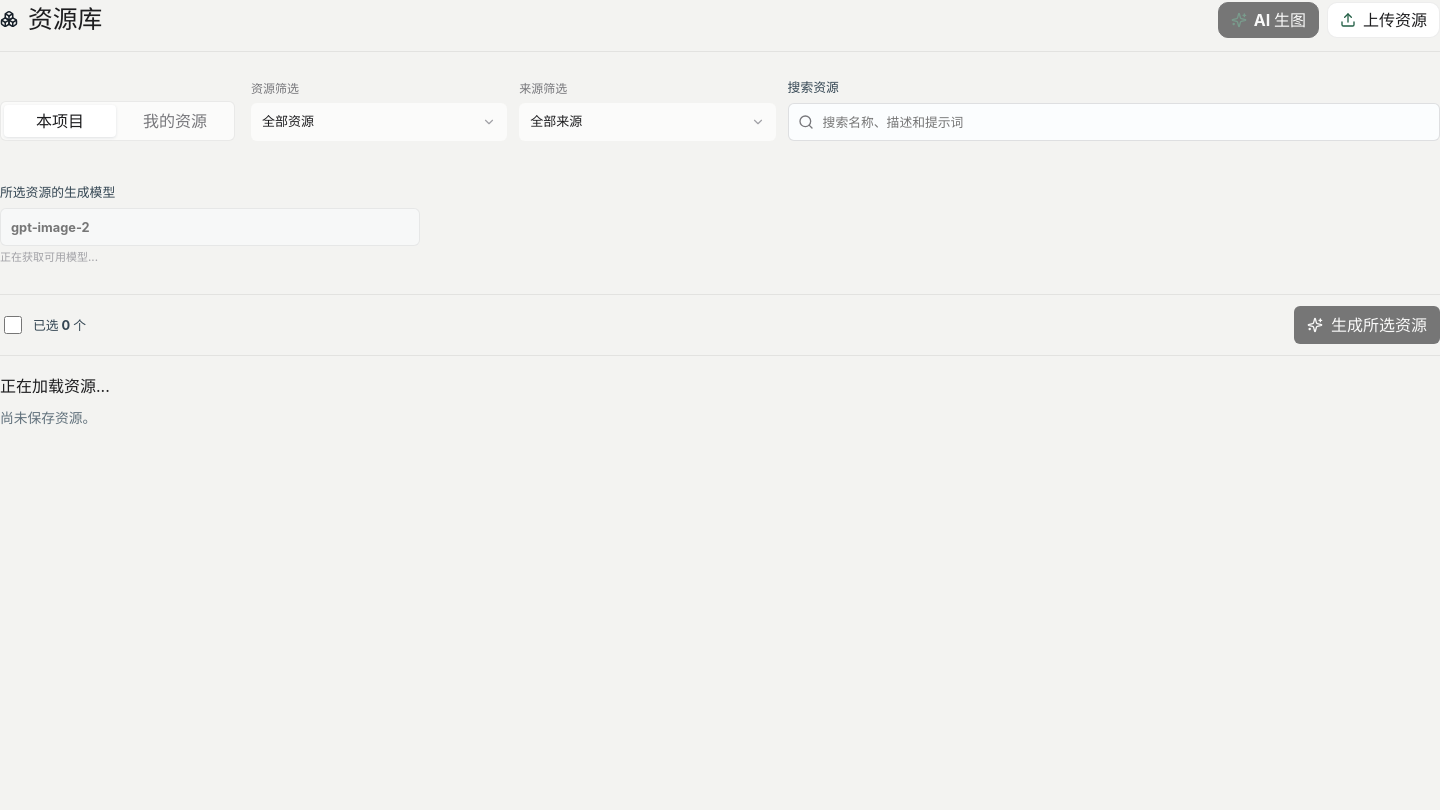
Scenario: ResourceLibraryPage › never renders broken media for missing assets and disables add and bind
Click the 4th button: (175,121) top-left (119, 105), bottom-right (231, 137)
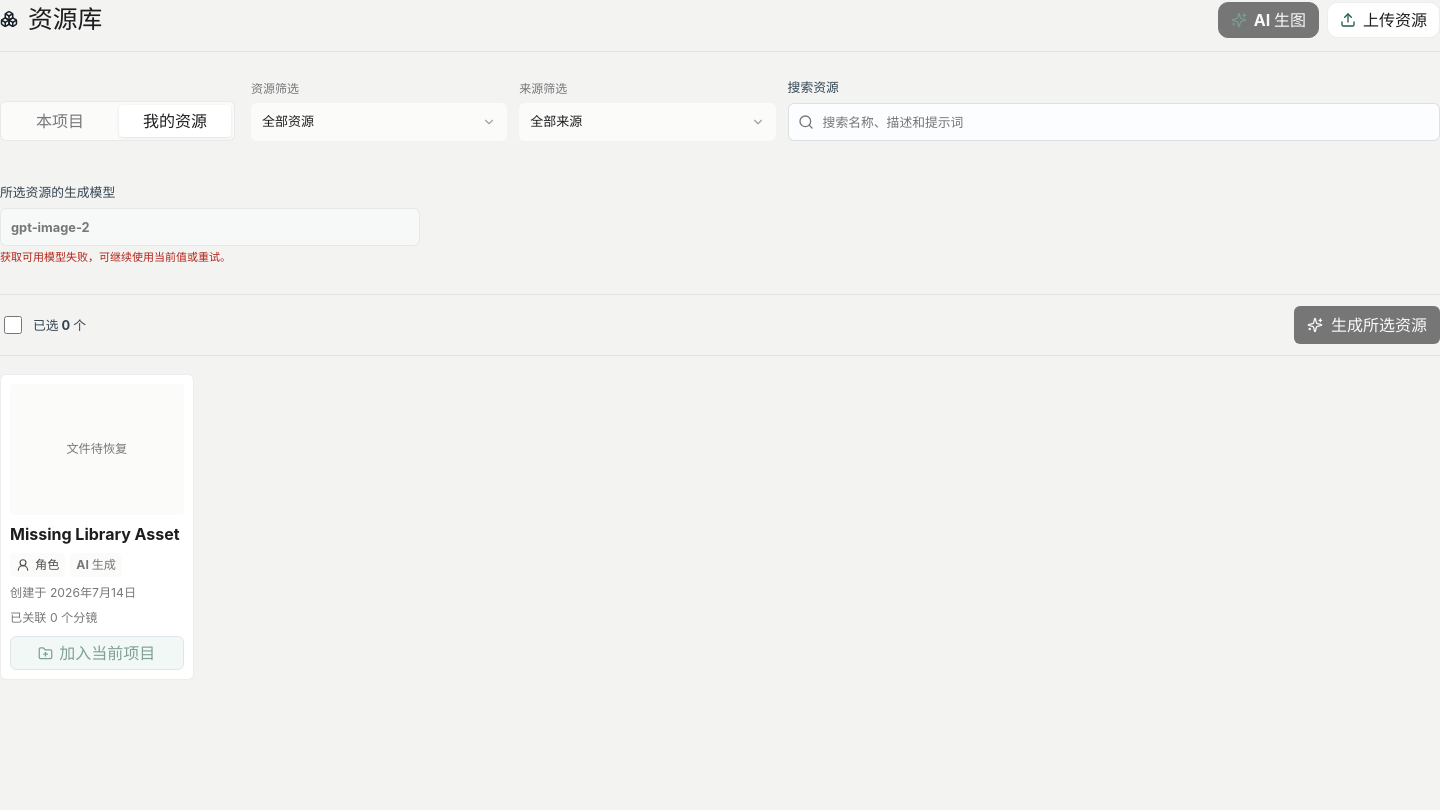
Click the button with aria-label "查看资源 Missing Library Asset": (97,465) top-left (10, 384), bottom-right (184, 546)
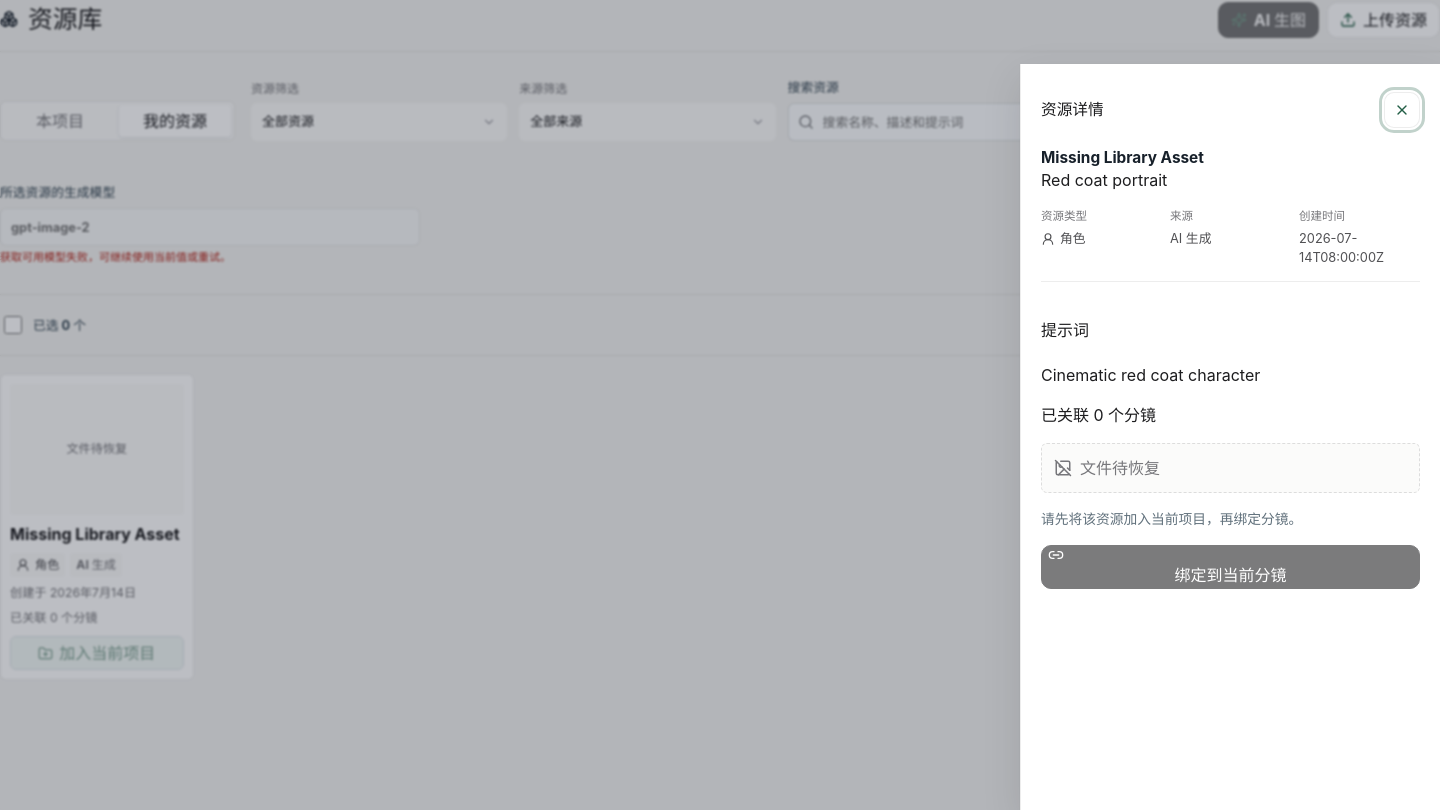
Result: the button "绑定到当前分镜" is disabled at top-left (1041, 546), bottom-right (1420, 590)
